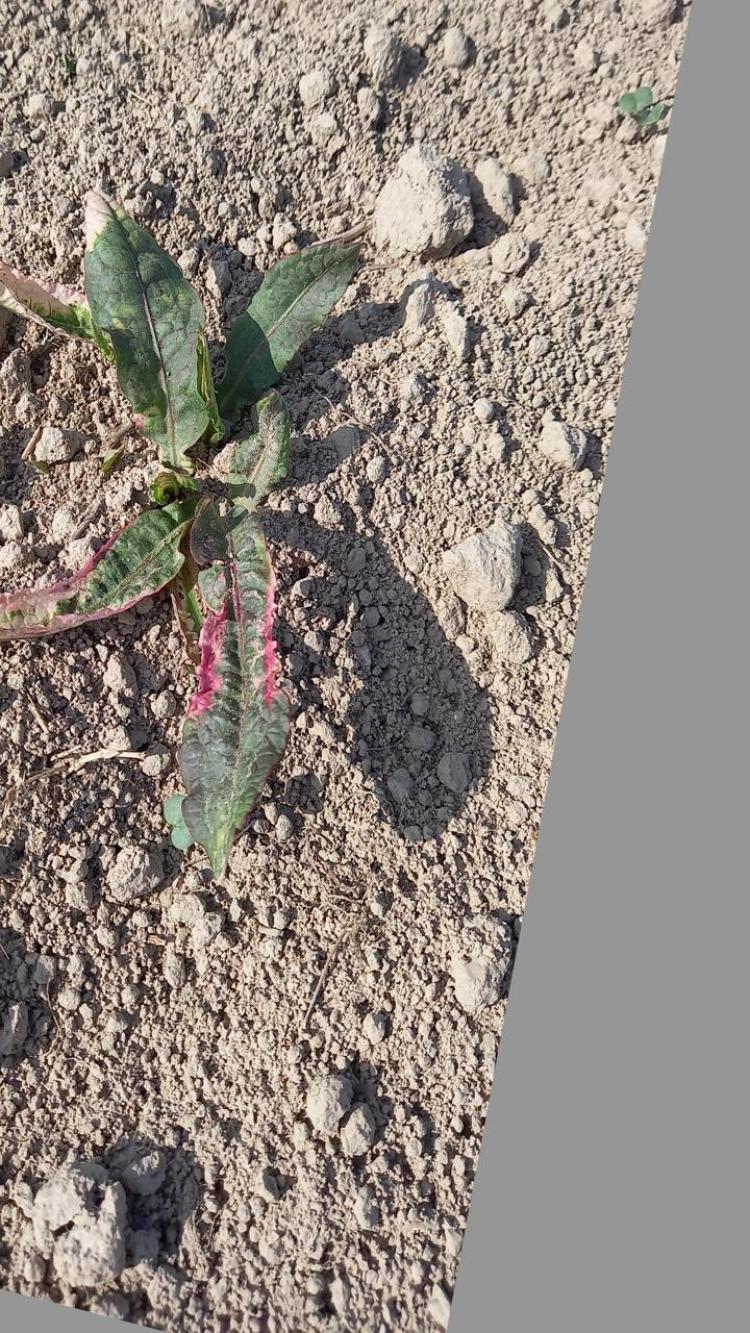zhavel: (0, 194, 373, 879)
